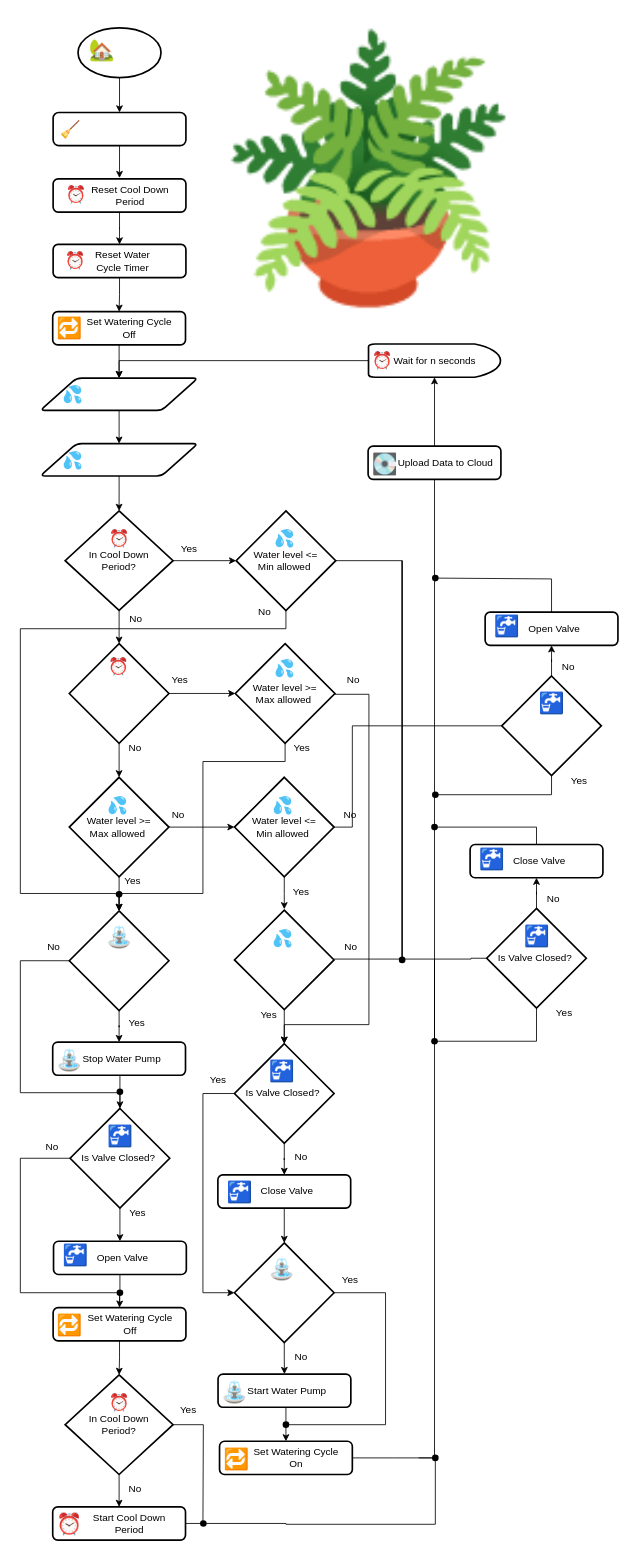
This 633x1555 diagram has some shape labels left out. The shapes that lost their labels are listed below. From the top down, each one's box as (x1, y1, x2, y2) in pixels, then its label:
(77, 27, 161, 78): Start
(52, 111, 186, 146): Reset Sensor values to default
(39, 377, 198, 411): Read water Level
(39, 442, 198, 476): Read Moisture Level
(68, 642, 169, 744): Has reached max idle period?
(500, 675, 602, 776): Is Valve Open?
(68, 910, 169, 1011): Is Water Pump working?
(233, 909, 334, 1010): Moisture level <= Min allowed
(233, 1242, 334, 1343): Is Water Pump working ?
